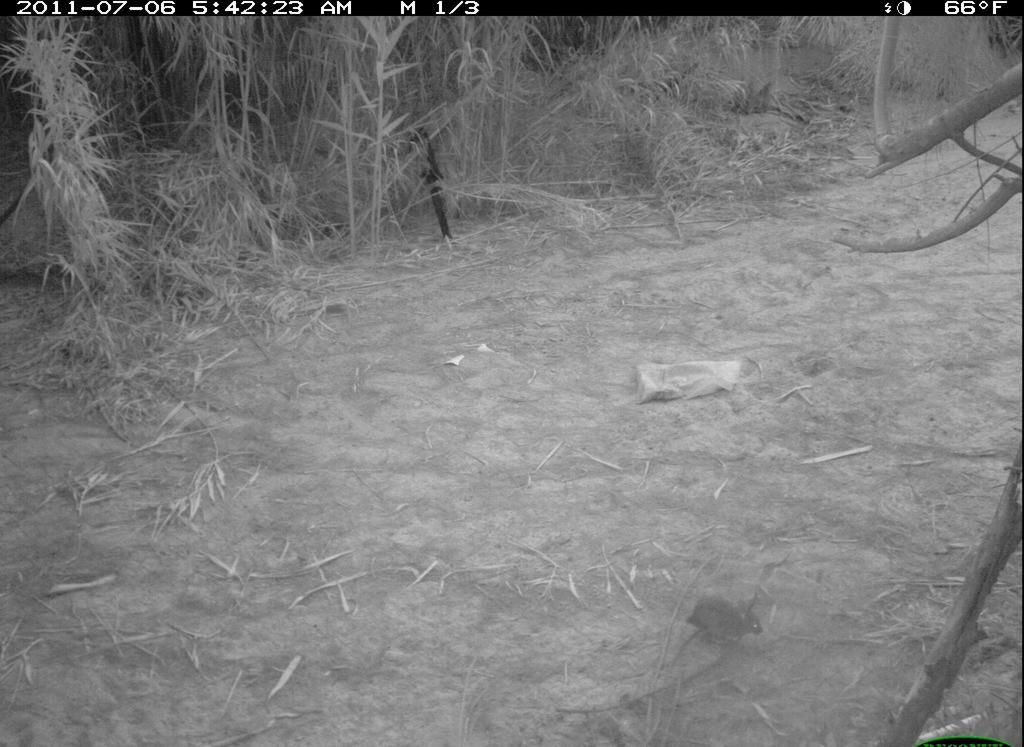rabbit: (685, 584, 770, 646)
